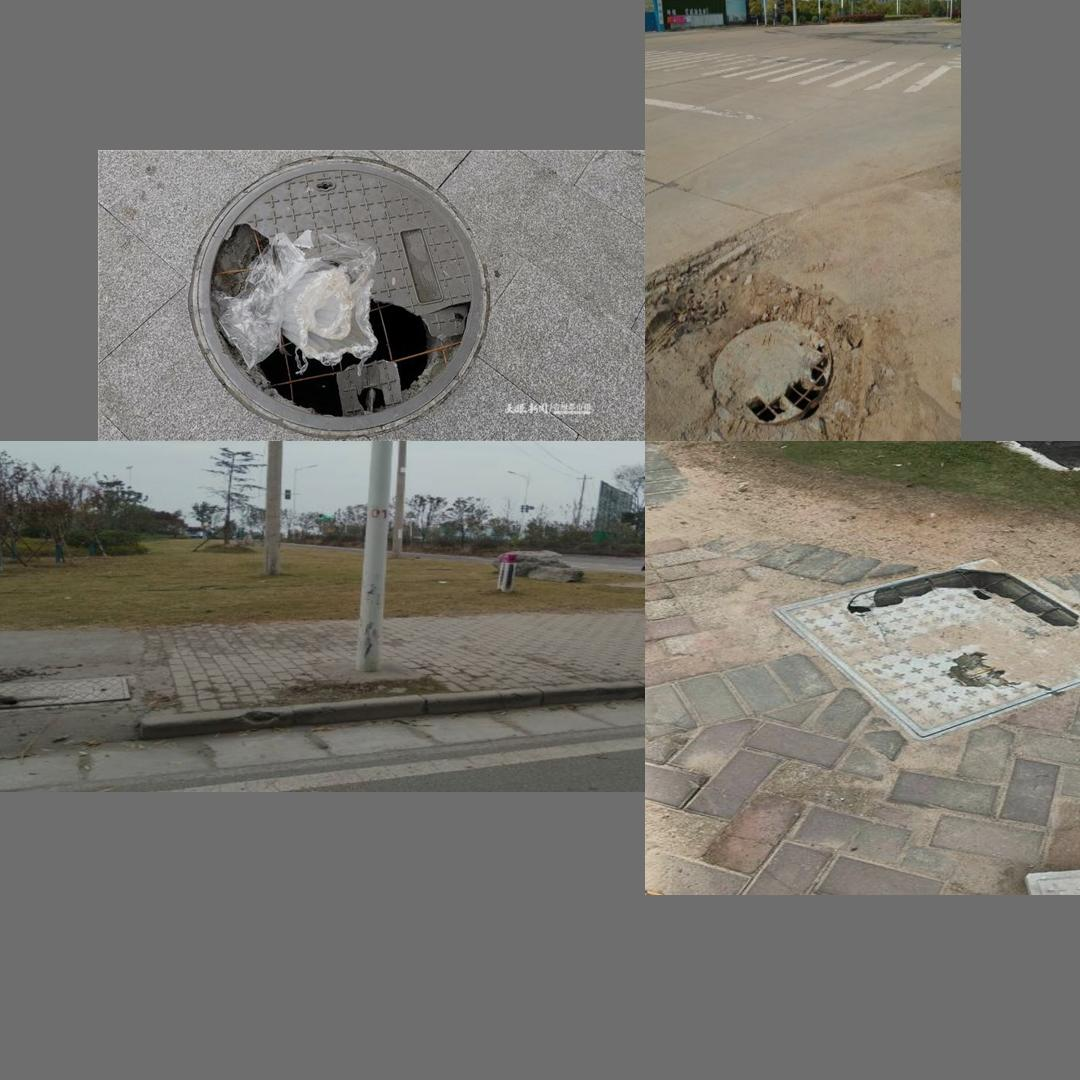broke: (182, 154, 496, 432), (766, 547, 1080, 748), (710, 320, 832, 429), (0, 679, 135, 706)
